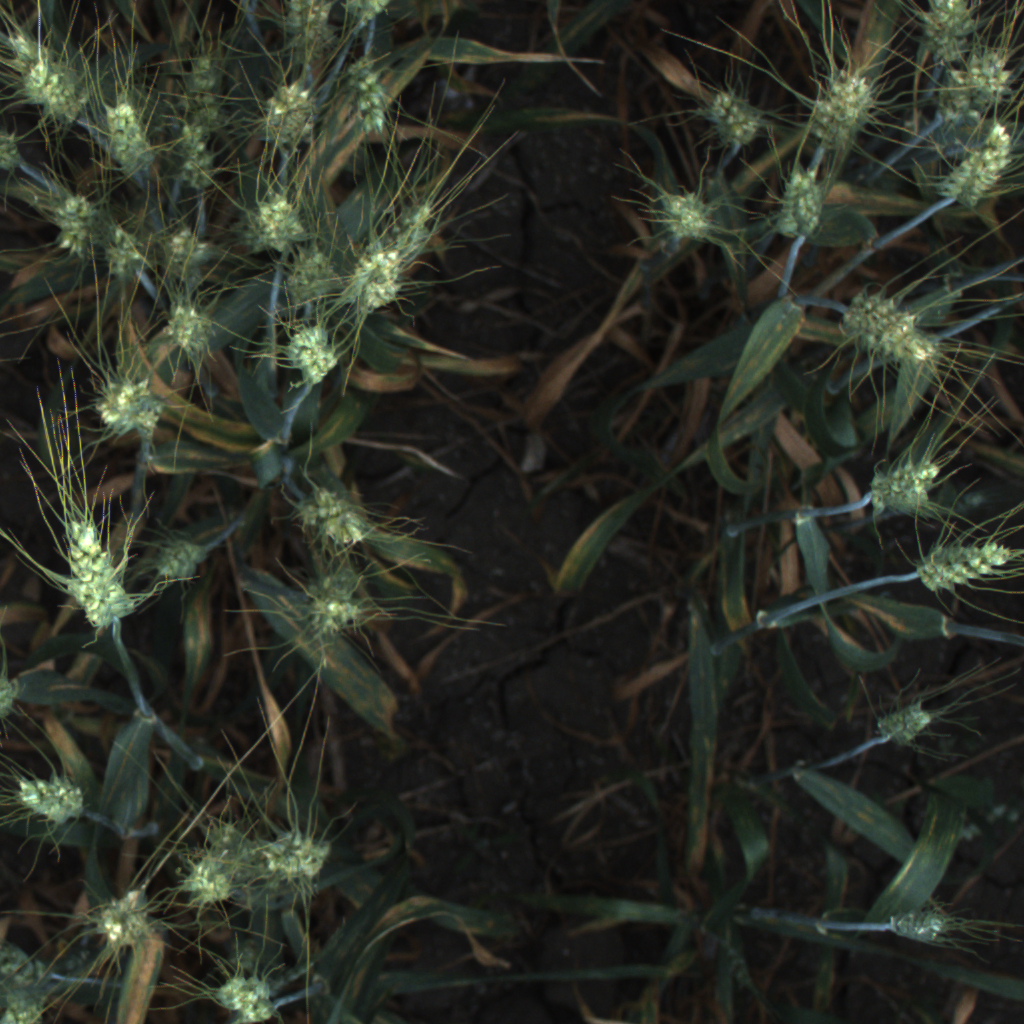wheat_head: (40, 495, 150, 645), (831, 280, 953, 377), (77, 343, 177, 460), (784, 47, 889, 155), (263, 473, 383, 557), (899, 525, 1019, 608), (932, 112, 1019, 222), (228, 63, 322, 161), (286, 562, 375, 655), (254, 312, 348, 395), (95, 92, 168, 198), (683, 80, 776, 163), (858, 444, 948, 527), (1, 937, 111, 1003), (926, 45, 1017, 124), (14, 33, 88, 128), (910, 0, 990, 86), (138, 529, 227, 603), (758, 156, 828, 249), (648, 174, 722, 259), (238, 170, 310, 257), (38, 181, 119, 253), (159, 215, 235, 284), (266, 0, 338, 66), (281, 224, 334, 307), (97, 219, 163, 284), (337, 242, 402, 308), (178, 52, 229, 135), (159, 301, 221, 369), (883, 890, 954, 949), (262, 830, 333, 888), (17, 769, 86, 828), (179, 843, 238, 911), (886, 683, 948, 747), (380, 203, 432, 276), (105, 875, 170, 933), (221, 977, 298, 1024), (343, 56, 388, 130), (176, 131, 221, 195), (1, 989, 69, 1022)
